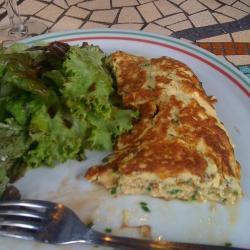omelette: (113, 54, 227, 203)
salad: (3, 48, 107, 151)
